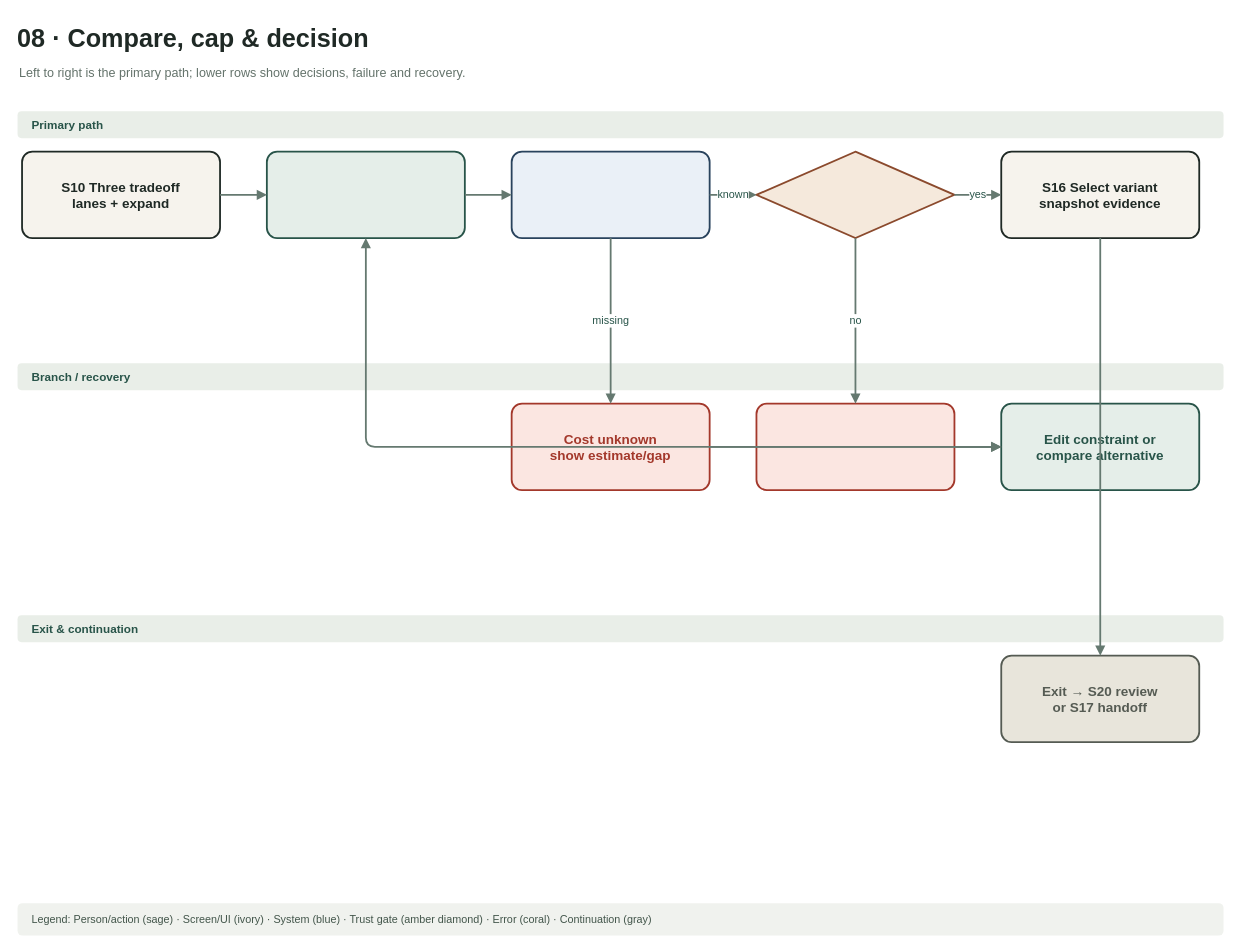
This 1238x950 diagram has some shape labels left out. Here are the shapes that lost their labels. From the top down, the centre of each, then its label:
At point 365,194: "S14 / S24 Compare fit, cost, condition".
At point 610,194: "Compute all-in shipping/tax/fees".
At point 855,194: "Under absolute hard cap?".
At point 855,446: "Above hard cap exclude from ready".
